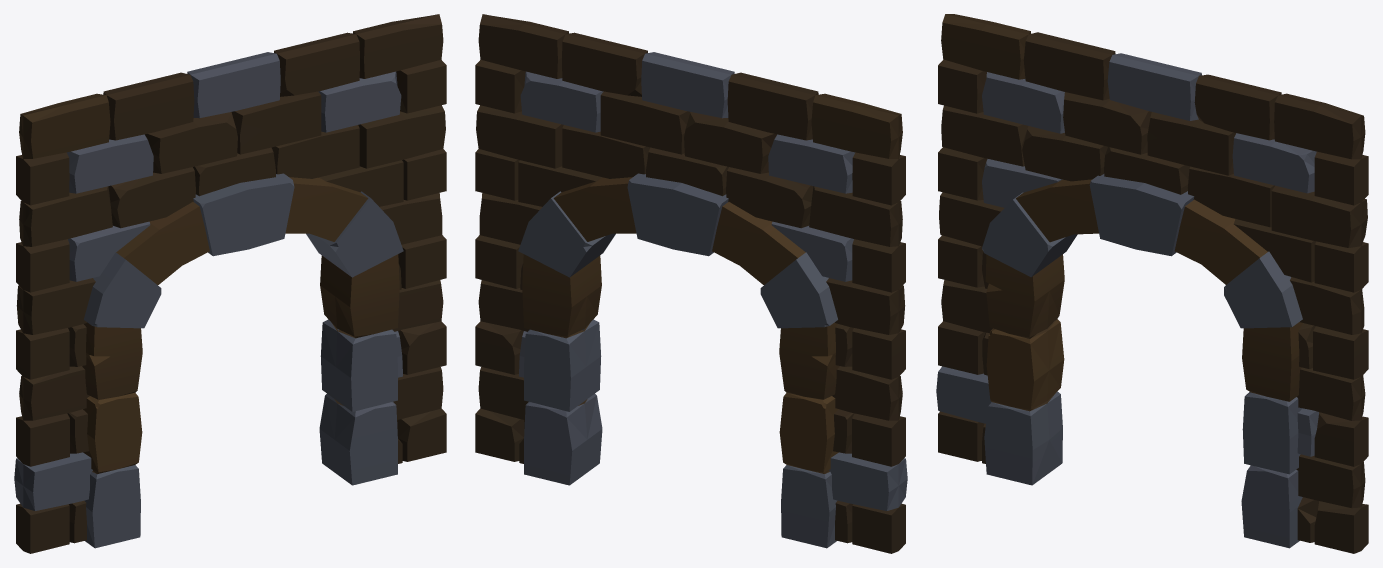
File: Wall_11.fbx
3 views of the same model, side by side, from view 1: azimuth 30°, elevation 25°; view 2: azimuth 150°, elevation 25°; view 3: azimuth 330°, elevation 25° (orthographic).
Parts seen in each view (by area): view 1: Wall_11; view 2: Wall_11; view 3: Wall_11.
Boxes of the visible parts, x1,y1,x2,y2 form: Wall_11: (14, 14, 446, 553); Wall_11: (475, 14, 907, 553); Wall_11: (936, 14, 1368, 553).
Bounding box in the file's own units: 4 × 4 × 0.5835.
